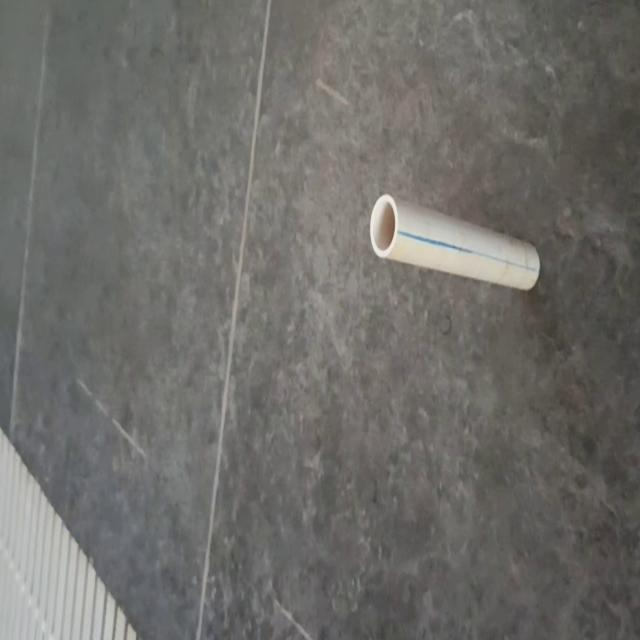Cube: (369, 191, 541, 292)
